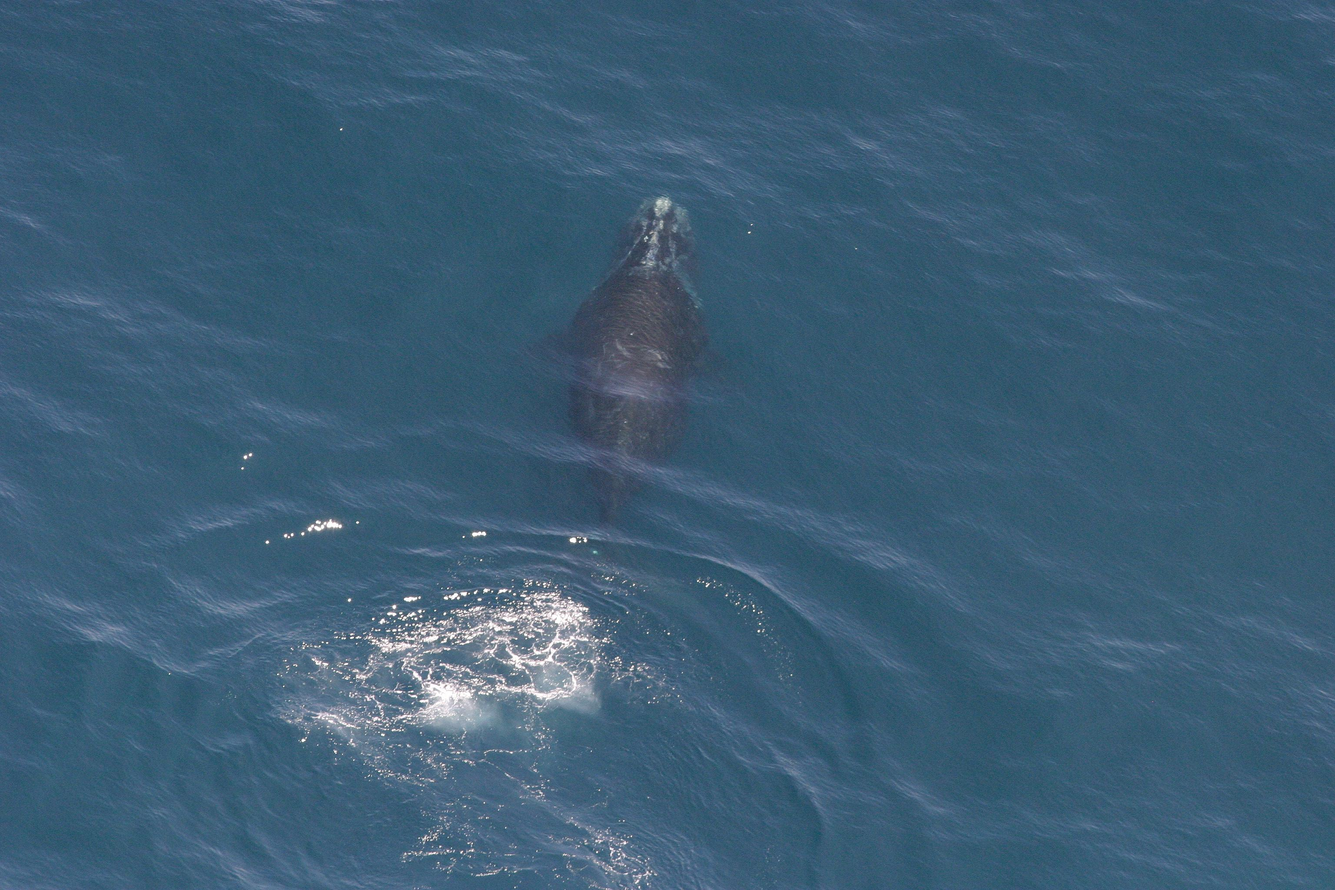whale: (510, 189, 775, 611)
